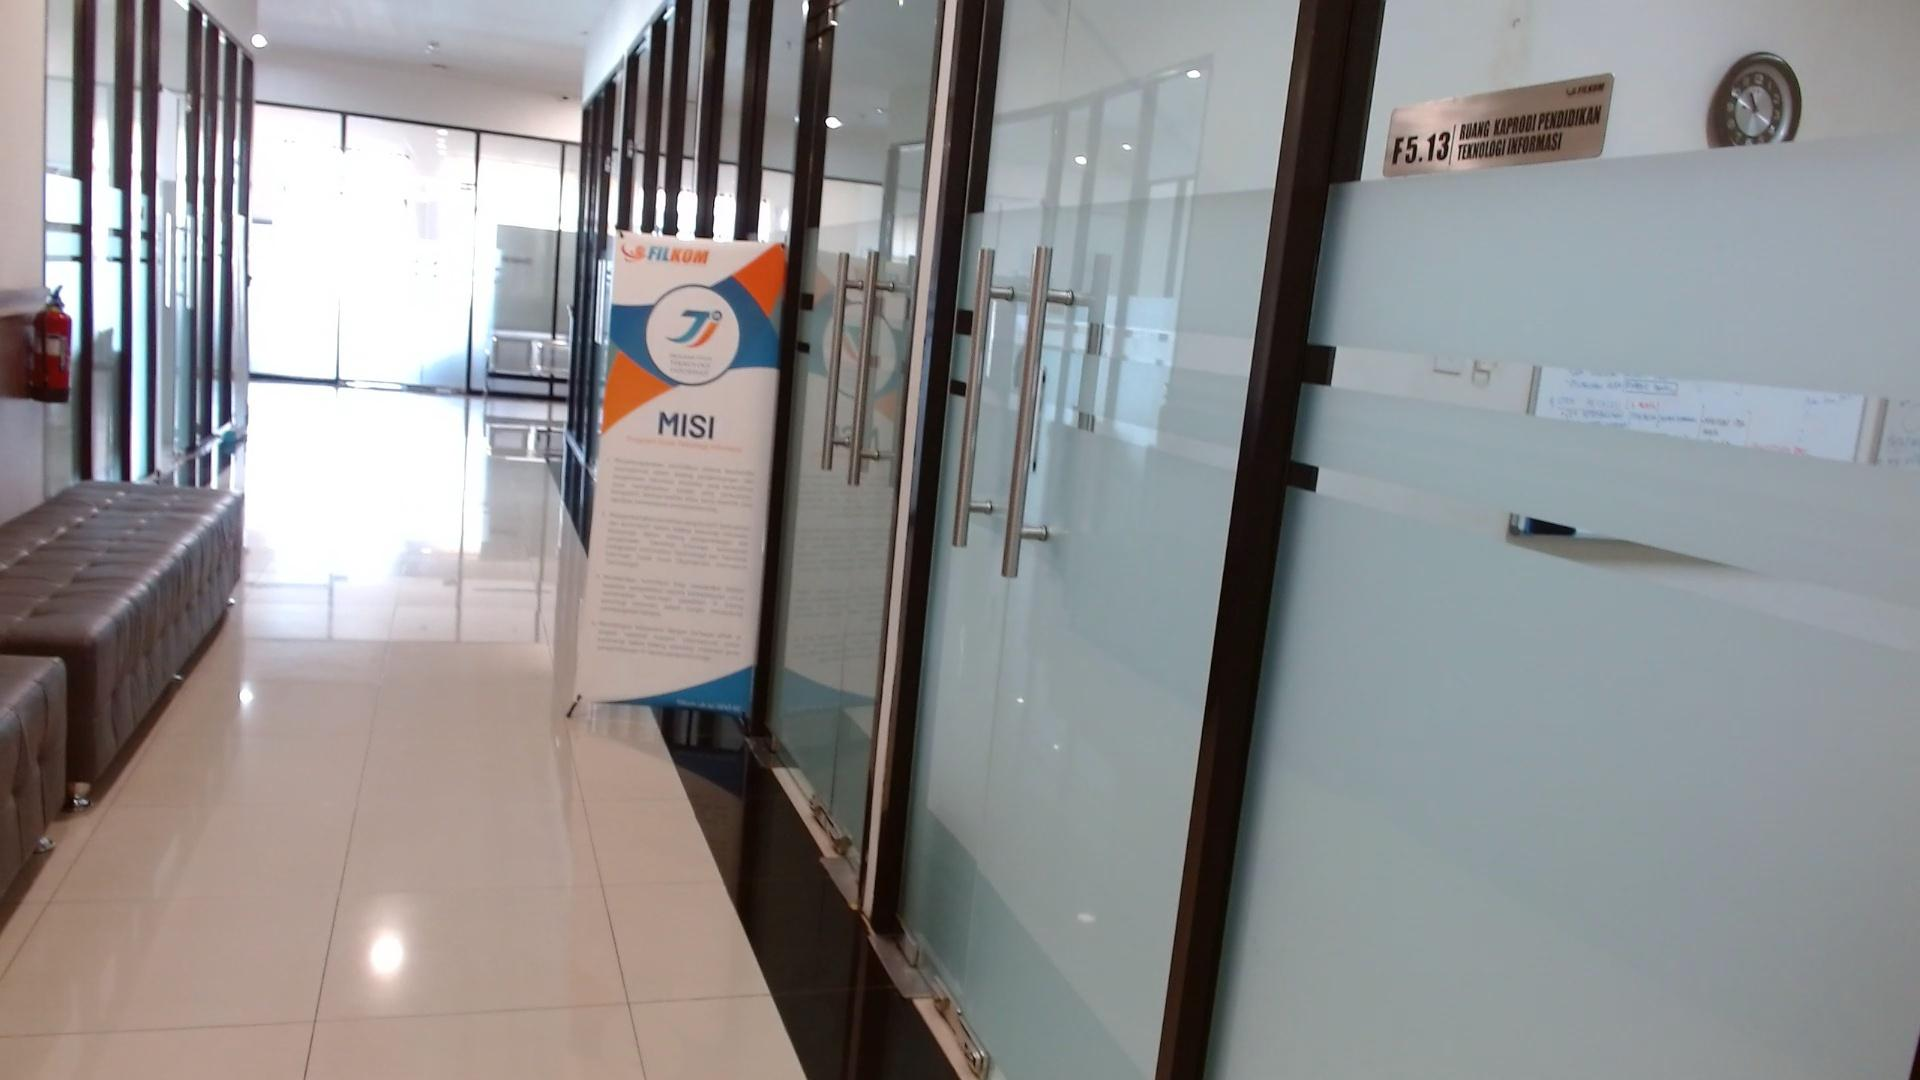plate: (1383, 73, 1617, 179)
